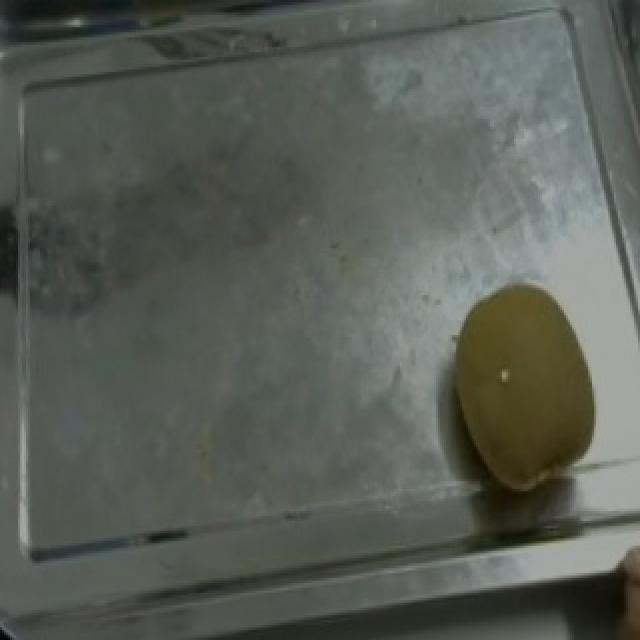Fruit: (428, 271, 618, 508)
